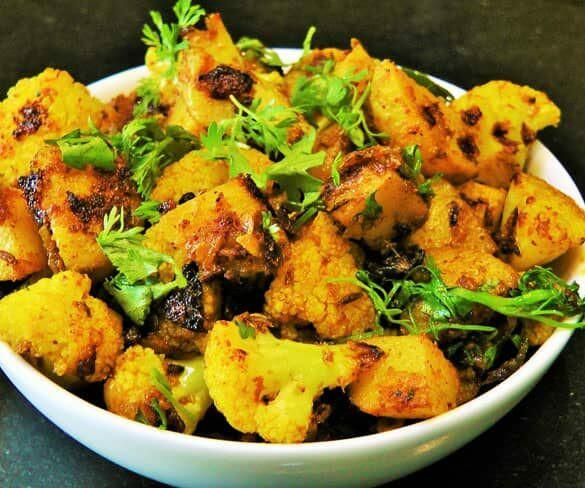AlooGobi: (0, 14, 585, 444)
